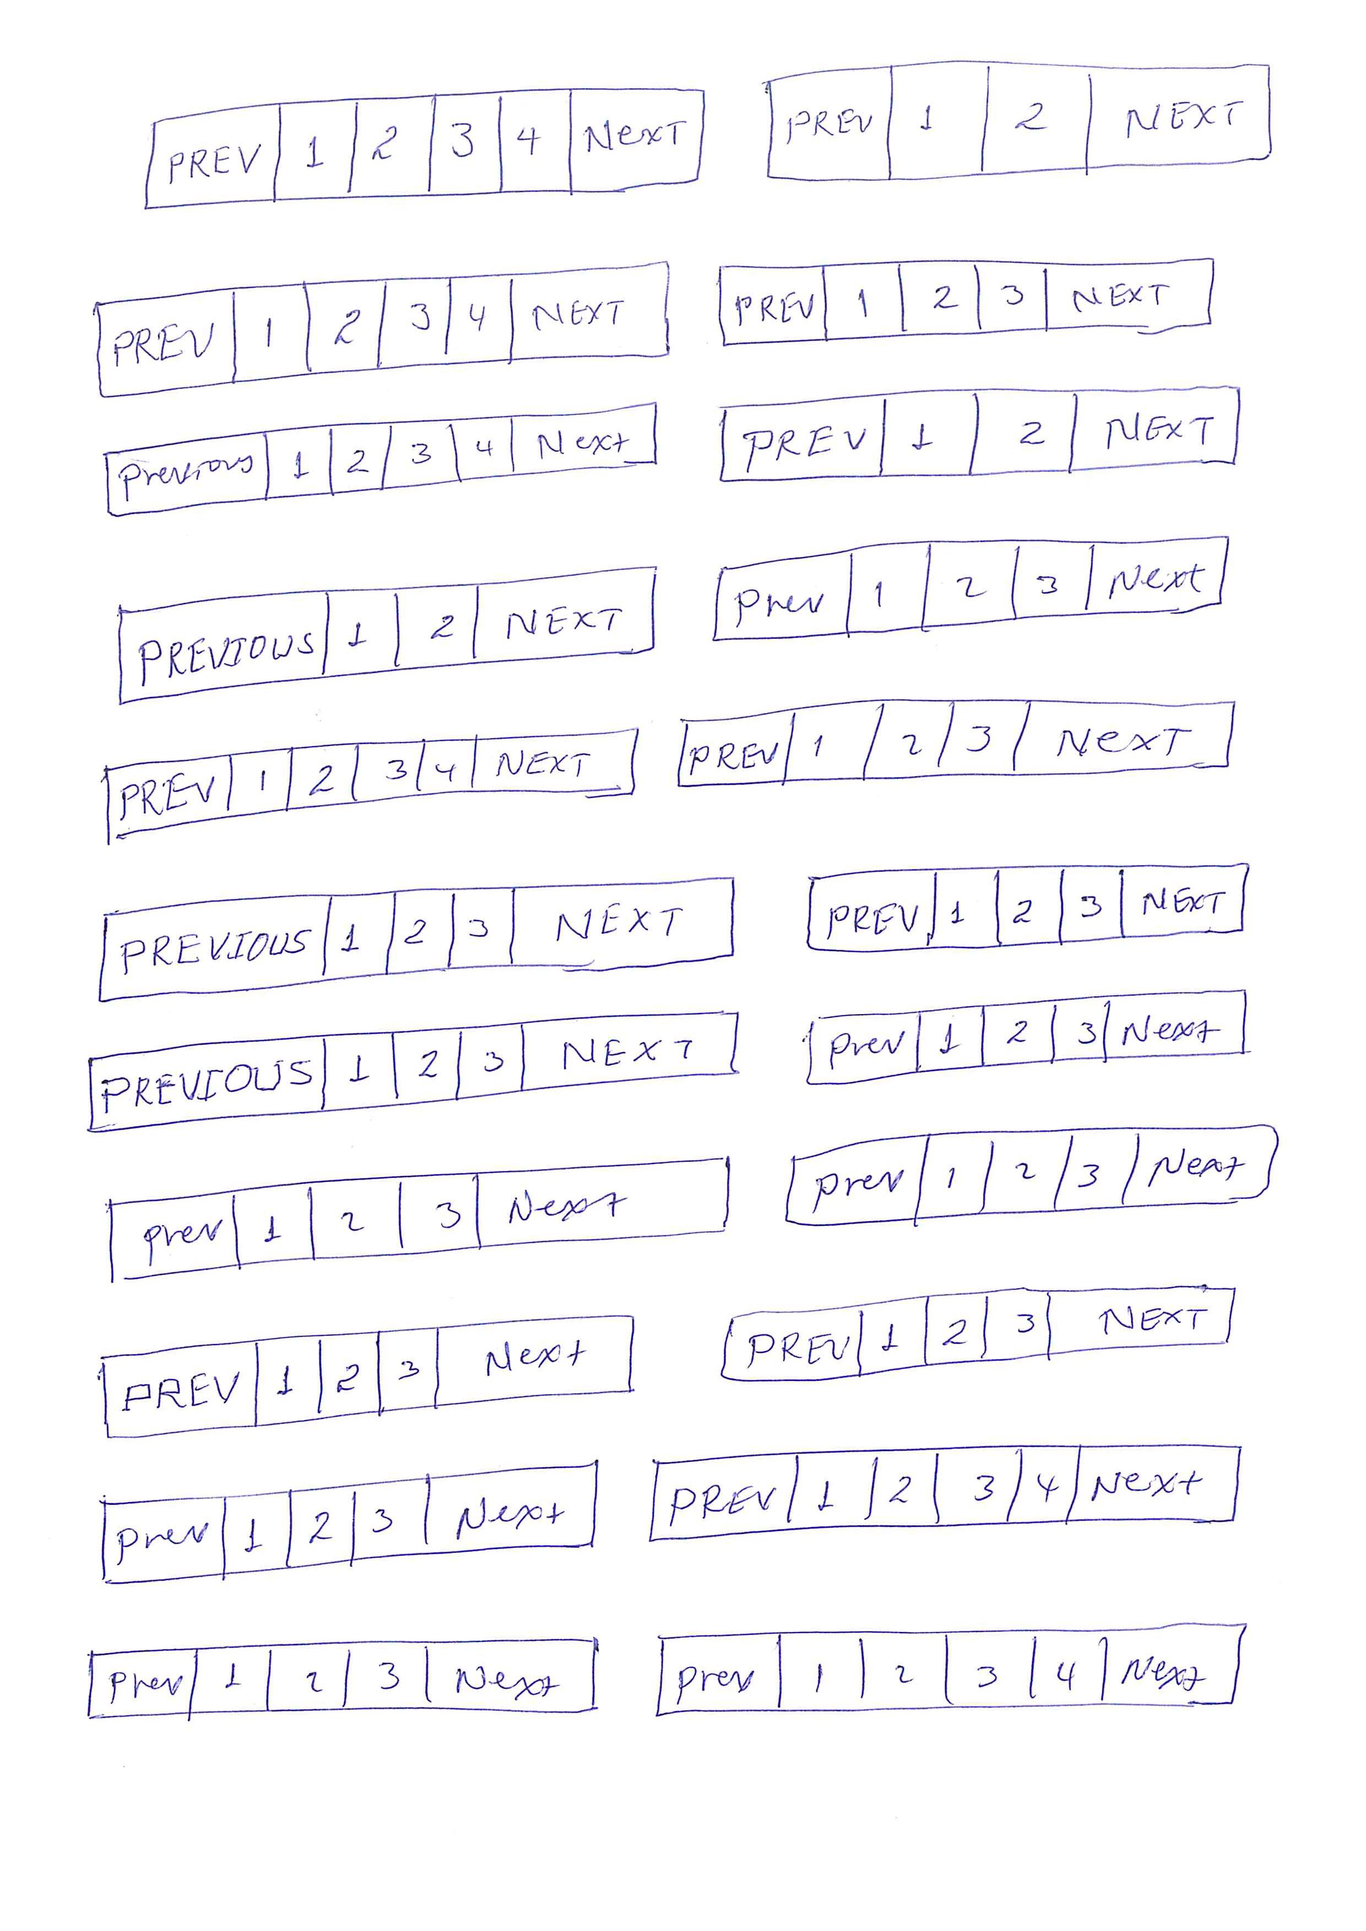Pagination: (95, 872, 738, 1004), (83, 1008, 738, 1136), (95, 259, 671, 401), (108, 1153, 733, 1283), (117, 565, 656, 705), (143, 84, 707, 211), (93, 1316, 633, 1445), (98, 1456, 600, 1589), (102, 726, 642, 847), (101, 401, 659, 517), (761, 56, 1273, 180), (650, 1440, 1251, 1545), (653, 1621, 1249, 1720), (710, 534, 1231, 645), (718, 1283, 1237, 1385), (717, 383, 1243, 483), (673, 696, 1237, 790), (784, 1124, 1282, 1229), (716, 256, 1217, 347), (84, 1634, 600, 1723), (803, 988, 1248, 1085), (803, 861, 1251, 954)
